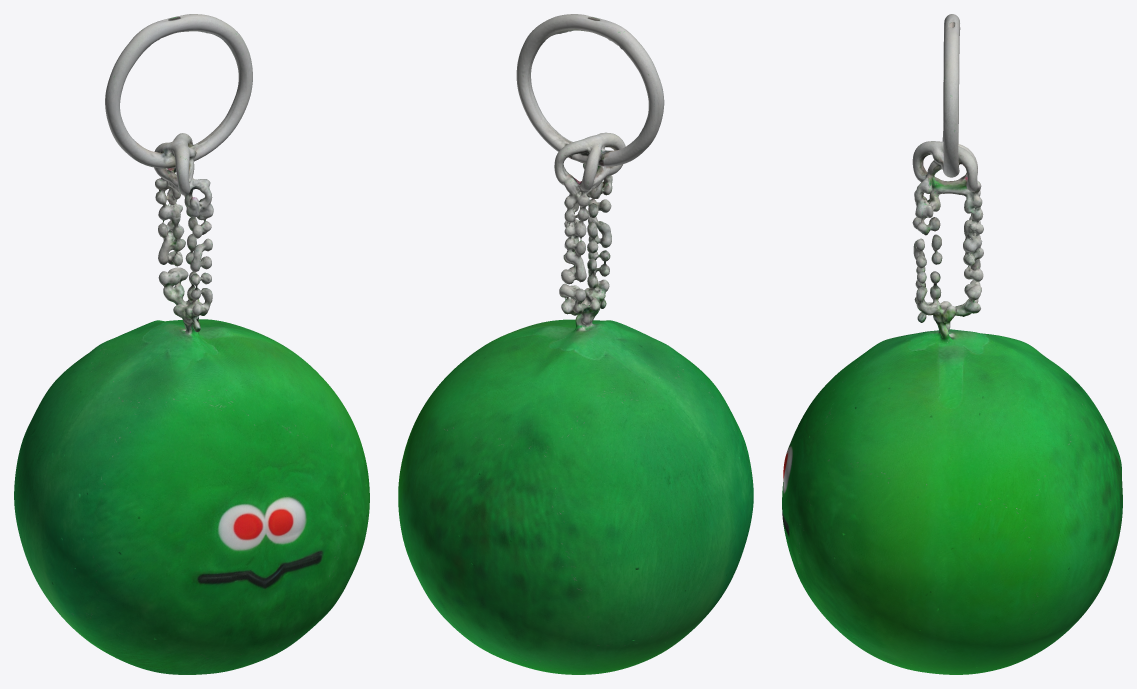
File: hanging-ball-green.glb
3 renders of one model, left to right at view 1: azimuth 30°, elevation 25°; view 2: azimuth 150°, elevation 25°; view 3: azimuth 270°, elevation 25°, orthographic. The views are drawn at different scales.
Size of the model in its own units: 0.9929 by 2 by 0.988.
1 material, 1 textured.
